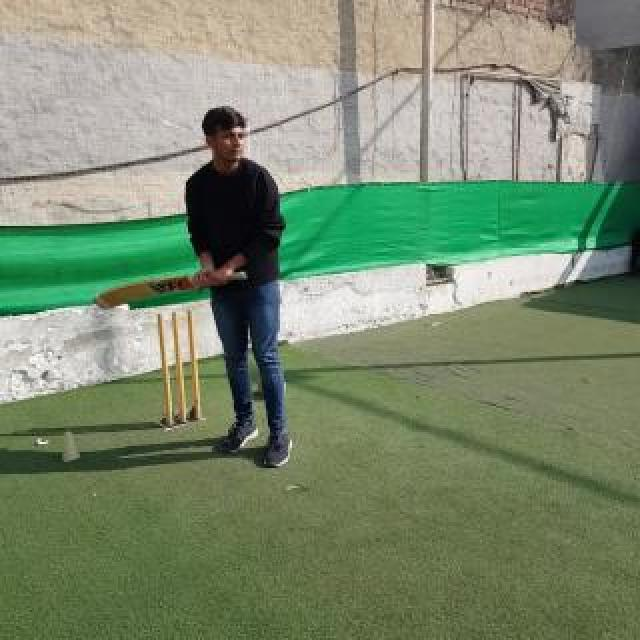bat: (94, 272, 246, 308)
